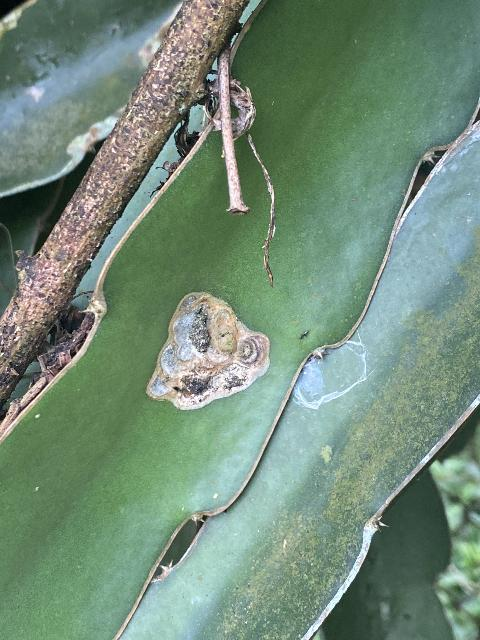stemcanker: (138, 281, 277, 416)
